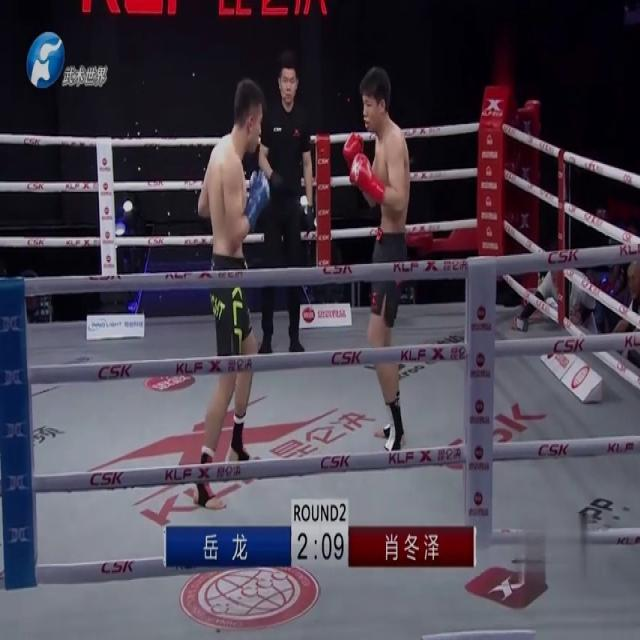fight: (189, 58, 417, 478)
non-fight: (253, 53, 317, 359), (514, 236, 606, 337), (606, 261, 639, 375)
